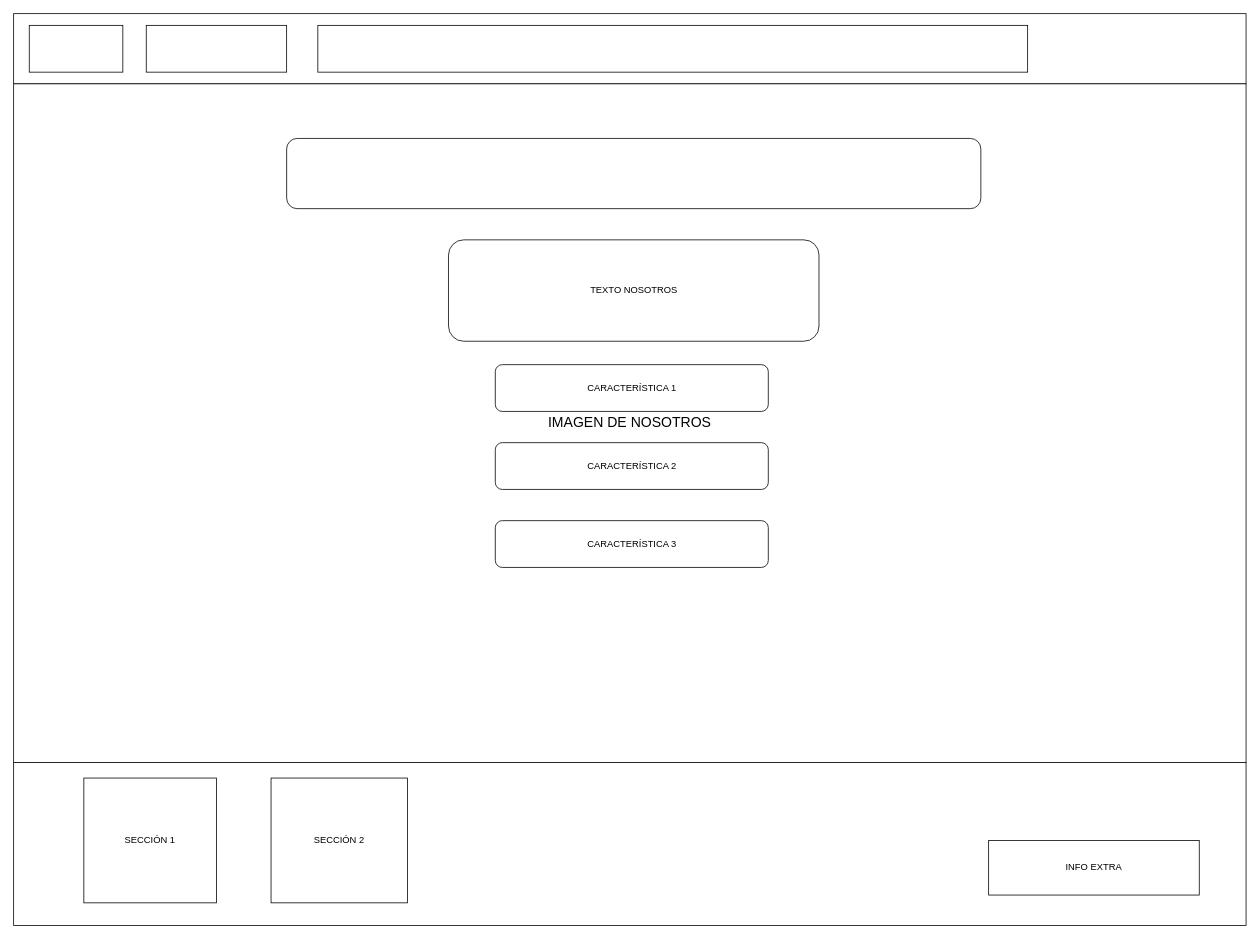
Image size: 1260x939. Some labels were removed from this diagram. The box of each missing label's shape, as (x1, y1, x2, y2) in pixels:
LOGO: (28, 25, 123, 72)
MENU: (317, 25, 1028, 72)
NOMBRE DE EMPRESA: (145, 25, 287, 72)
TÍTULO NOSOTROS: (286, 138, 981, 209)
